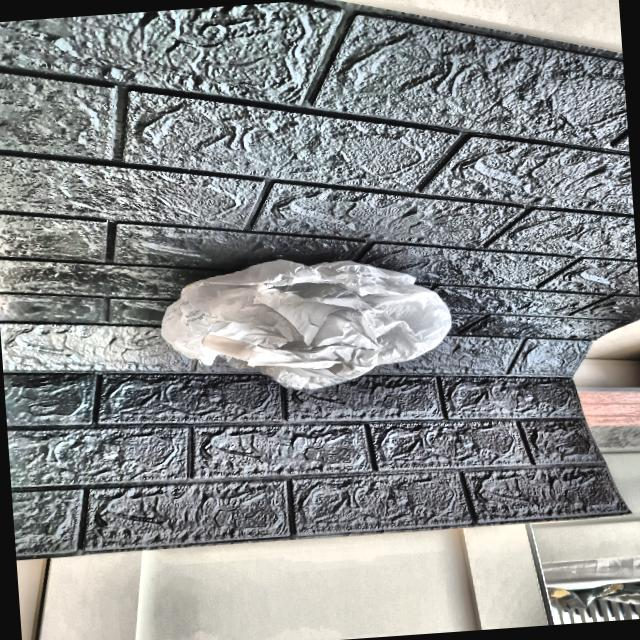plastic bag: (154, 246, 456, 404)
